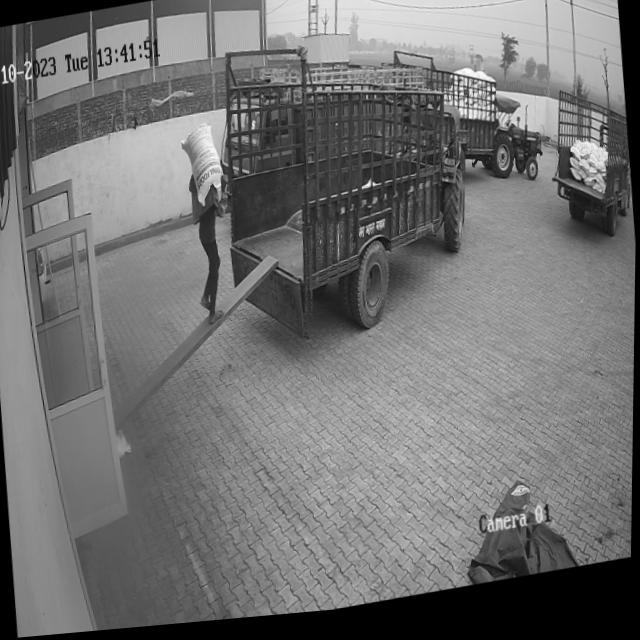sack: (179, 125, 225, 214)
